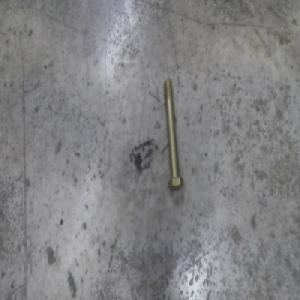Bolt: (162, 76, 184, 189)
